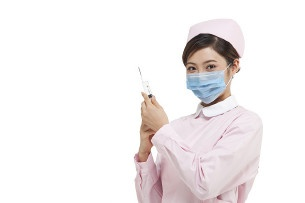Mask: (184, 57, 231, 104)
